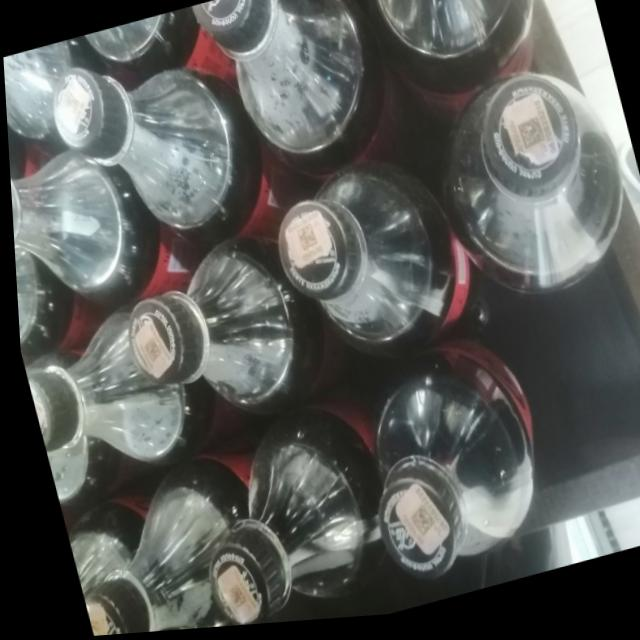datamatrix: (399, 507, 433, 545), (513, 121, 547, 159), (289, 225, 320, 259), (217, 585, 243, 615), (137, 337, 160, 367)
